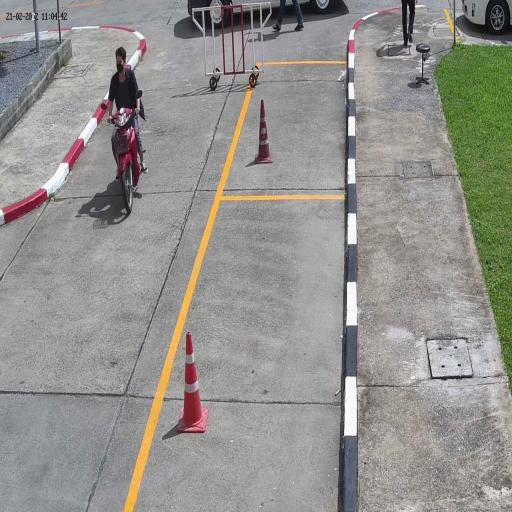motorcycle: (107, 107, 143, 211)
